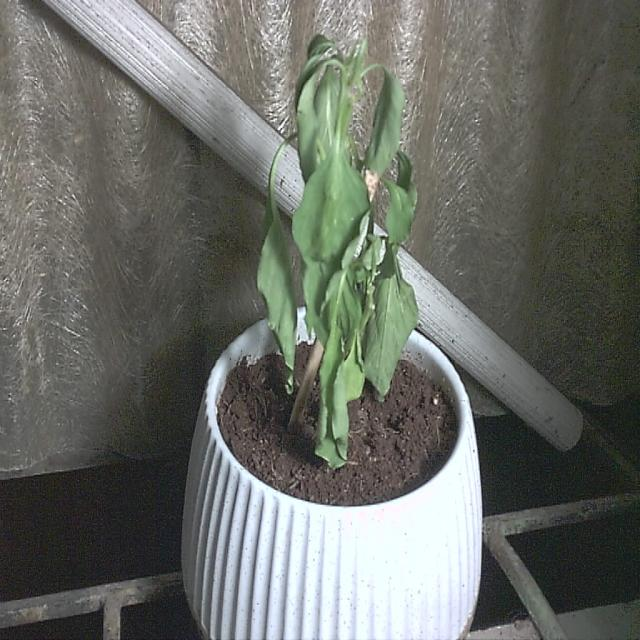Leaf: (285, 136, 372, 354), (362, 233, 418, 391)
